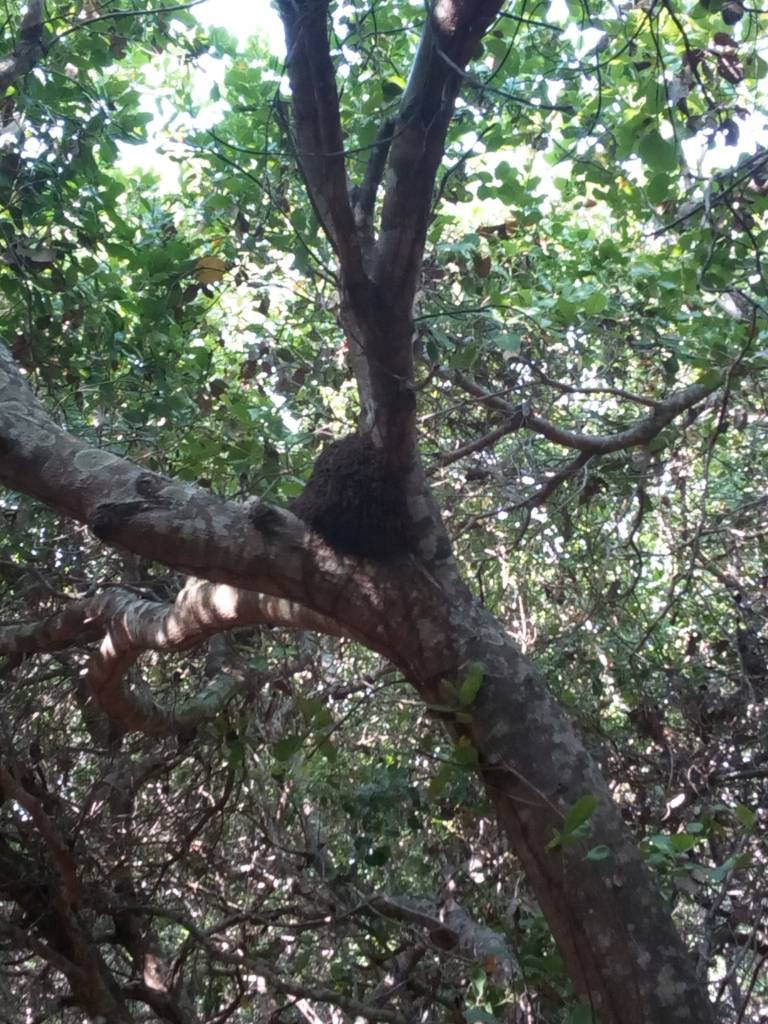Termites: (308, 438, 430, 557)
